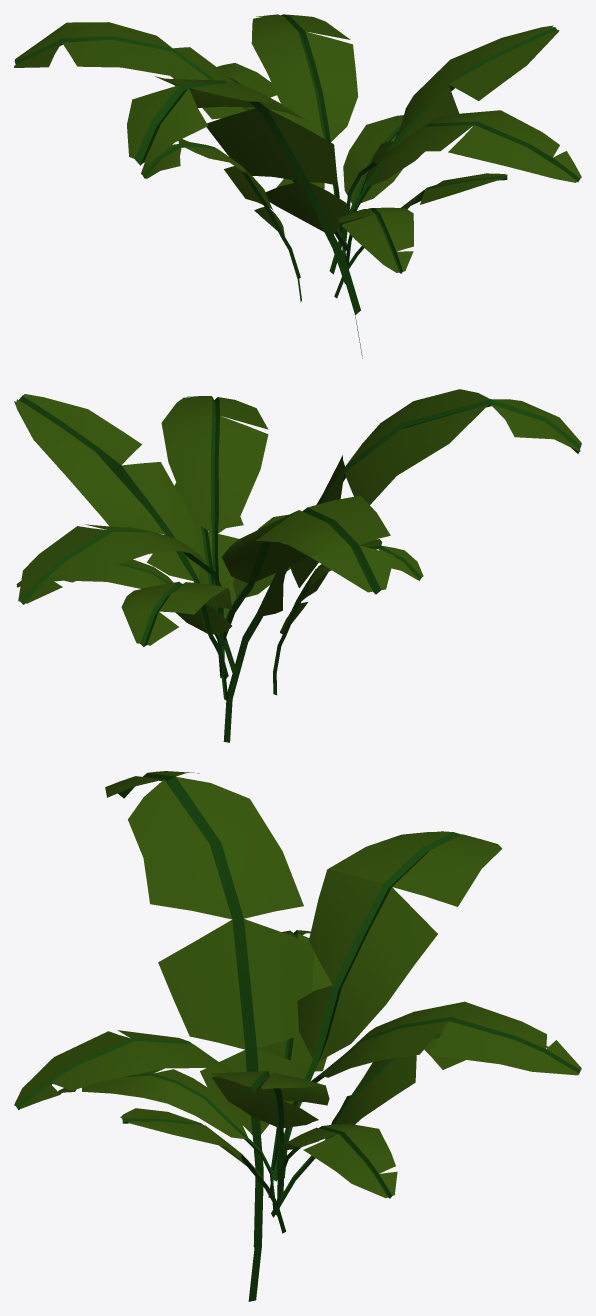
The model's file is SM_Large_Leaf_Plant_A.fbx.
3 renders of one model, top to bottom at view 1: azimuth 30°, elevation 25°; view 2: azimuth 150°, elevation 25°; view 3: azimuth 270°, elevation 25°, orthographic. The views are drawn at different scales.
Parts seen in each view (by area): view 1: SM_Large_Leaf_Plant_A.001; view 2: SM_Large_Leaf_Plant_A.001; view 3: SM_Large_Leaf_Plant_A.001.
Part boxes in pixels (x1,y1,x2,y2): SM_Large_Leaf_Plant_A.001: [14, 14, 581, 358]; SM_Large_Leaf_Plant_A.001: [14, 389, 581, 742]; SM_Large_Leaf_Plant_A.001: [14, 771, 581, 1301].
Size of the model in its own units: 238 by 211 by 166.
